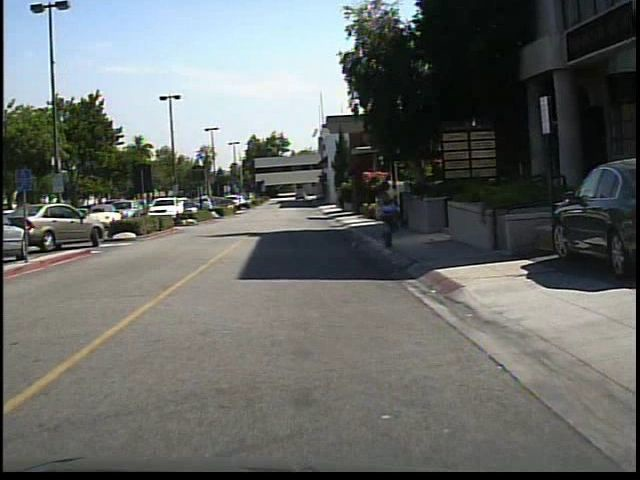person: (369, 174, 402, 251)
